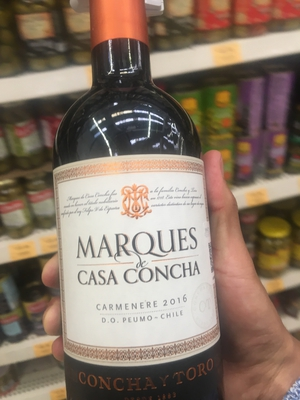marques de casa concha carmenere: (55, 48, 226, 394)
